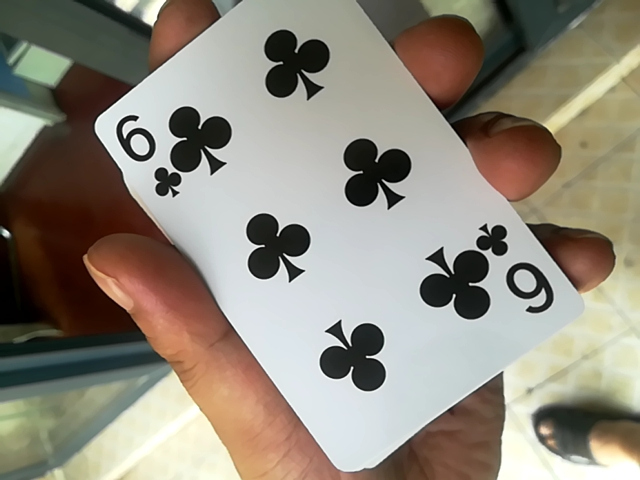mh 6: (80, 7, 574, 473)
